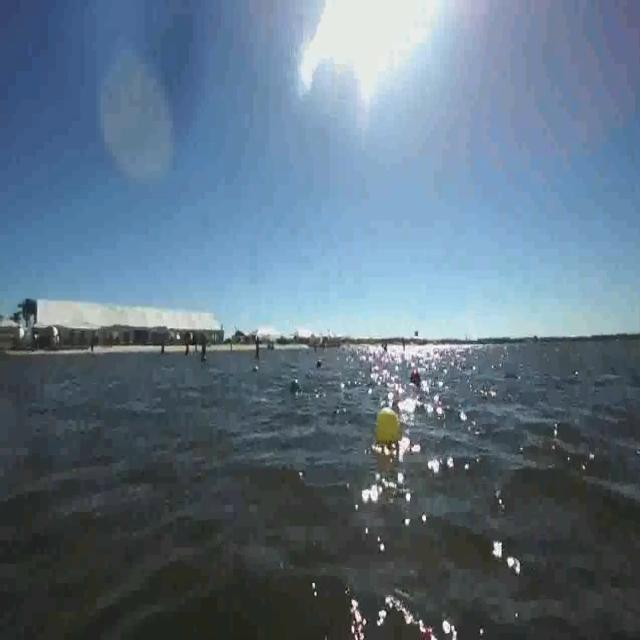yellow-buoy: (376, 406, 403, 447)
